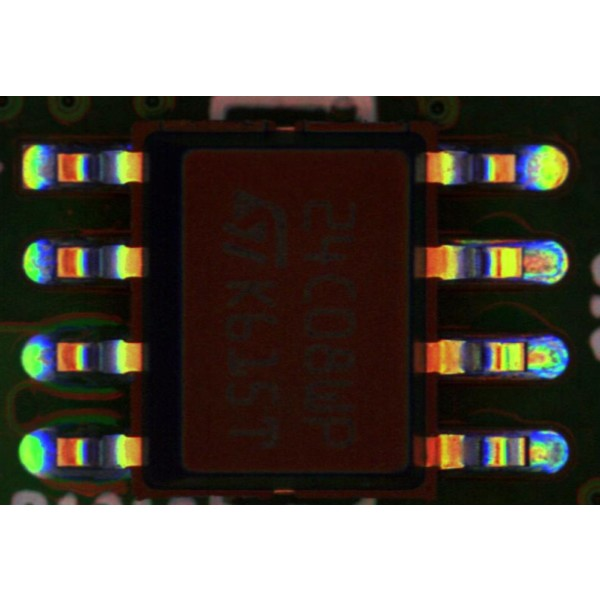Bad_podu: (507, 255, 550, 274), (509, 348, 548, 367), (509, 446, 545, 462)
